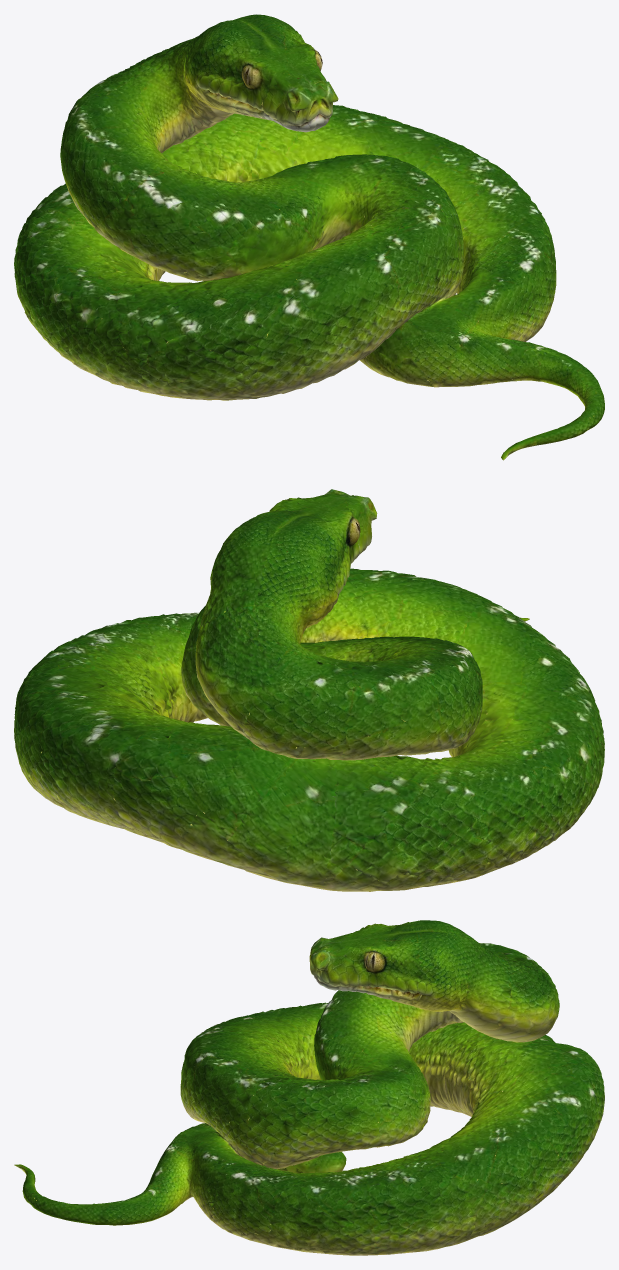
Rendered from python.glb.
3 renders of one model, top to bottom at view 1: azimuth 30°, elevation 25°; view 2: azimuth 150°, elevation 25°; view 3: azimuth 270°, elevation 25°, orthographic. The views are drawn at different scales.
Visible parts, largest first — view 1: snake; view 2: snake; view 3: snake.
Boxes of the visible parts, x1=… form: snake: x1=14, y1=14, x2=604, y2=460; snake: x1=14, y1=489, x2=604, y2=891; snake: x1=14, y1=920, x2=604, y2=1255.
Size of the model in its own units: 0.4014 by 0.2153 by 0.4992.
1 material, 1 textured.
